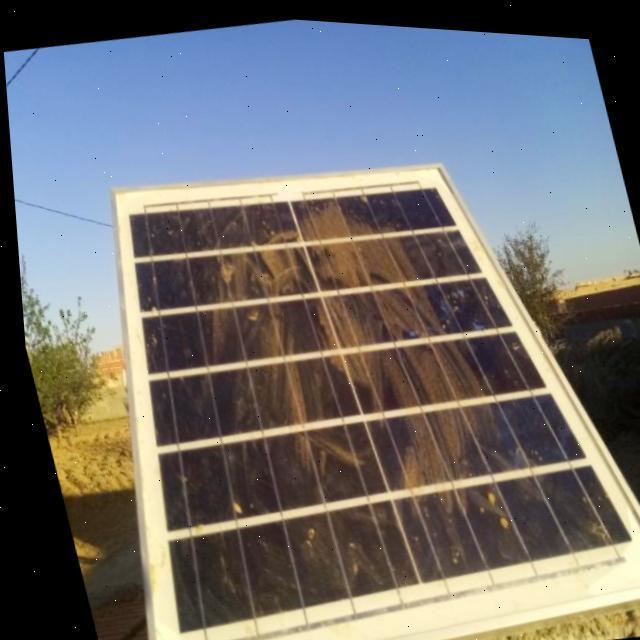Anomaly Solar Panel: (115, 170, 640, 640)
Surface Contaminant: (120, 182, 617, 618)
